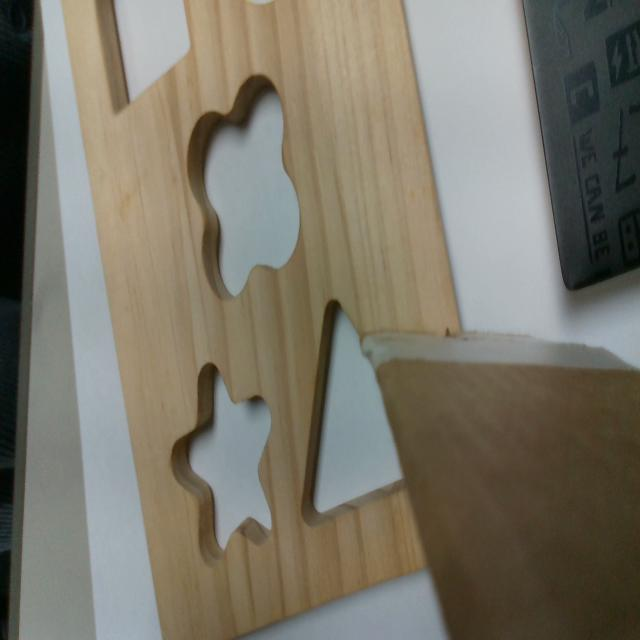flower: (185, 73, 299, 298)
square: (96, 2, 192, 118)
star: (174, 366, 271, 564)
triangle: (301, 295, 408, 530)
